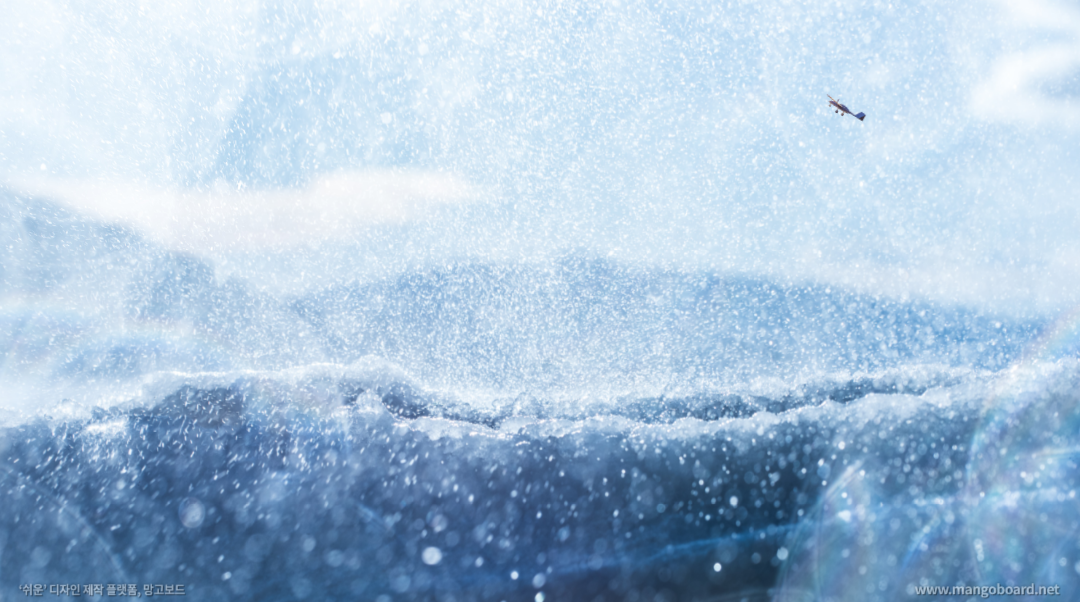military drone: (826, 93, 866, 121)
